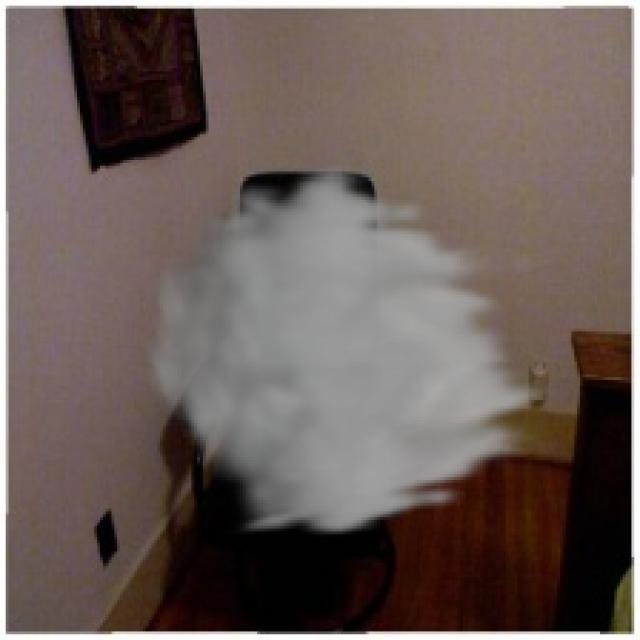Smoke: (140, 160, 560, 540)
